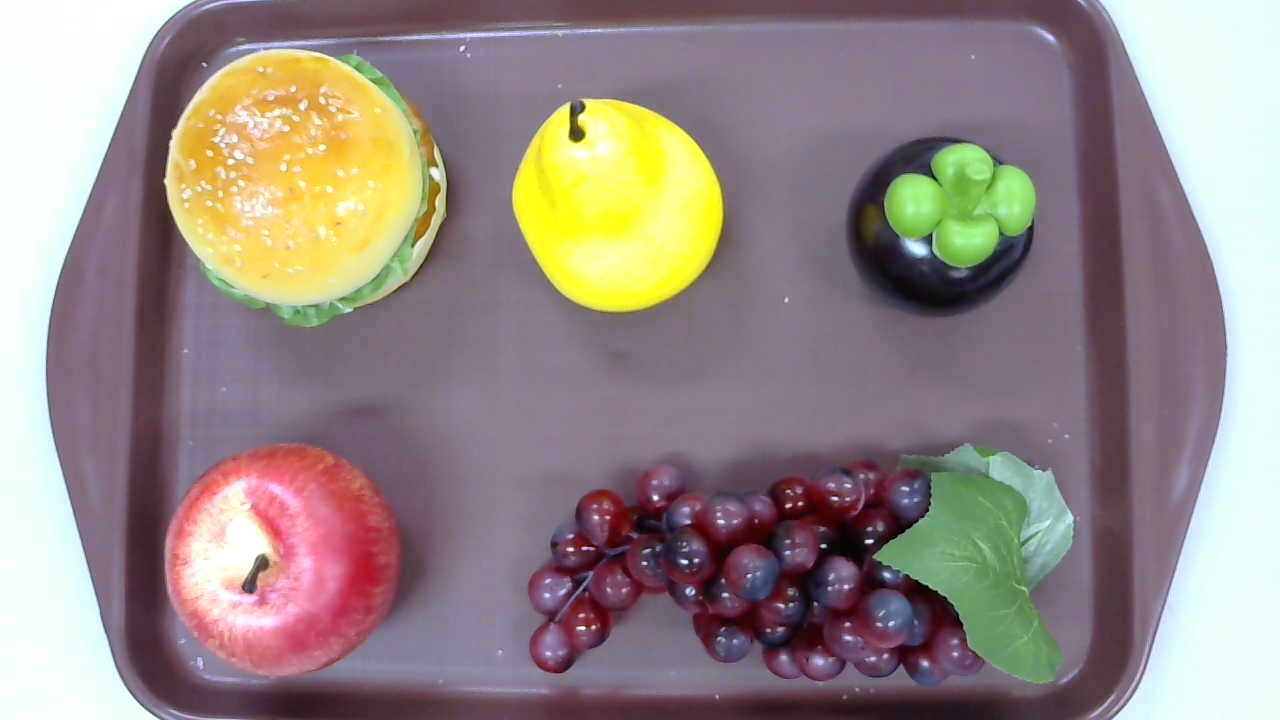grape: (526, 439, 1075, 687)
hamburger: (162, 47, 447, 328)
mangosteen: (846, 137, 1036, 320)
red apple: (161, 442, 400, 679)
yellow pear: (512, 97, 723, 315)
